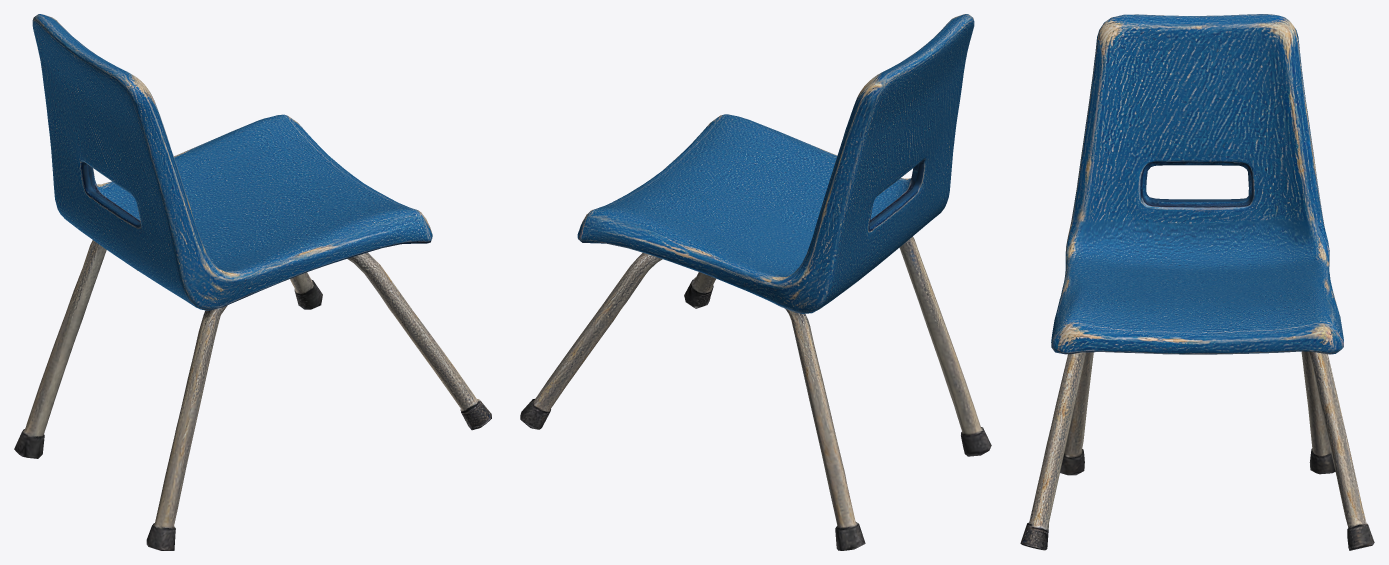
The model's file is ClassroomChair.fbx.
3 renders of one model, left to right at view 1: azimuth 30°, elevation 25°; view 2: azimuth 150°, elevation 25°; view 3: azimuth 270°, elevation 25°, orthographic. The views are drawn at different scales.
Parts seen in each view (by area): view 1: tripo_node_daa53652-c468-4818-a1eb-2f6a5a3828f3; view 2: tripo_node_daa53652-c468-4818-a1eb-2f6a5a3828f3; view 3: tripo_node_daa53652-c468-4818-a1eb-2f6a5a3828f3.
Boxes of the visible parts, bbox=[...] form: tripo_node_daa53652-c468-4818-a1eb-2f6a5a3828f3: bbox=[14, 14, 491, 550]; tripo_node_daa53652-c468-4818-a1eb-2f6a5a3828f3: bbox=[520, 14, 991, 550]; tripo_node_daa53652-c468-4818-a1eb-2f6a5a3828f3: bbox=[1020, 14, 1374, 550].
Bounding box in the file's own units: 75.38 × 100 × 71.38.
Materials: 1 (1 with a texture image).
